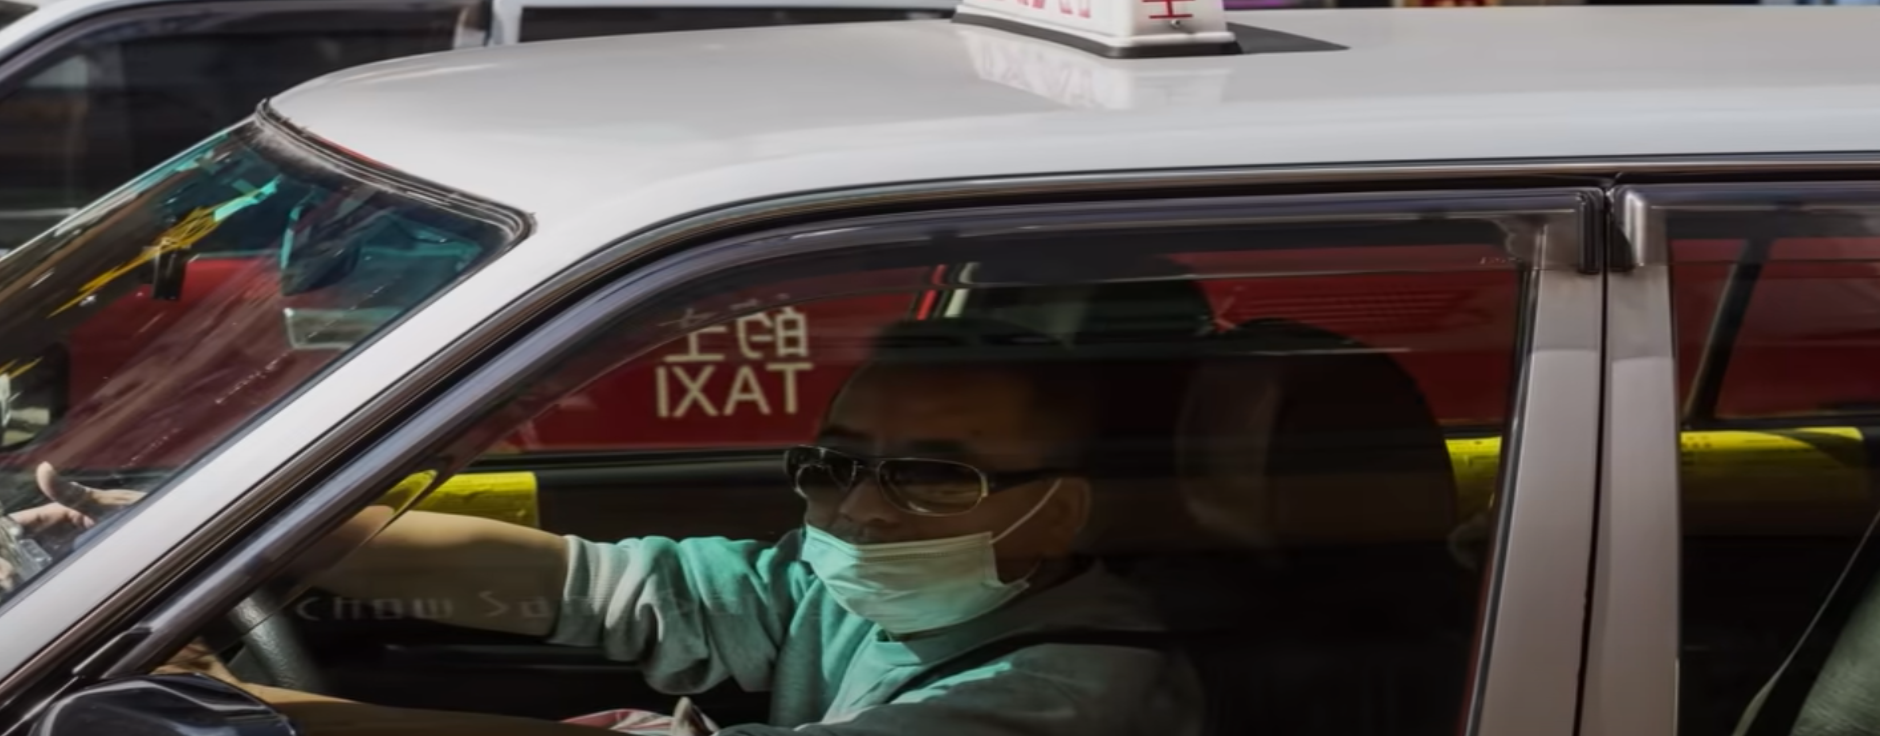mask_weared_incorrect: (790, 322, 1128, 639)
